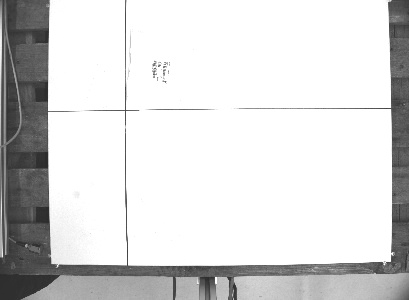t3: (125, 27, 197, 110)
